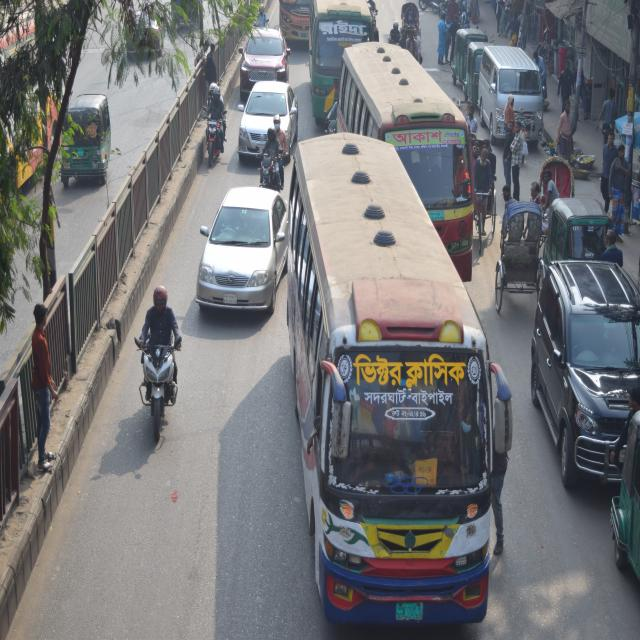bus: (296, 132, 448, 629), (335, 47, 458, 227), (303, 0, 354, 108)
car: (526, 258, 640, 478), (195, 181, 301, 322), (238, 81, 300, 155), (238, 24, 288, 86)
microbus: (480, 46, 542, 142)
motorbike: (129, 324, 183, 436), (199, 101, 225, 176), (257, 144, 287, 200)
